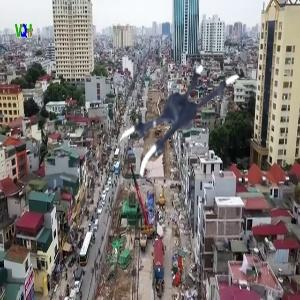drone: (117, 57, 257, 197)
